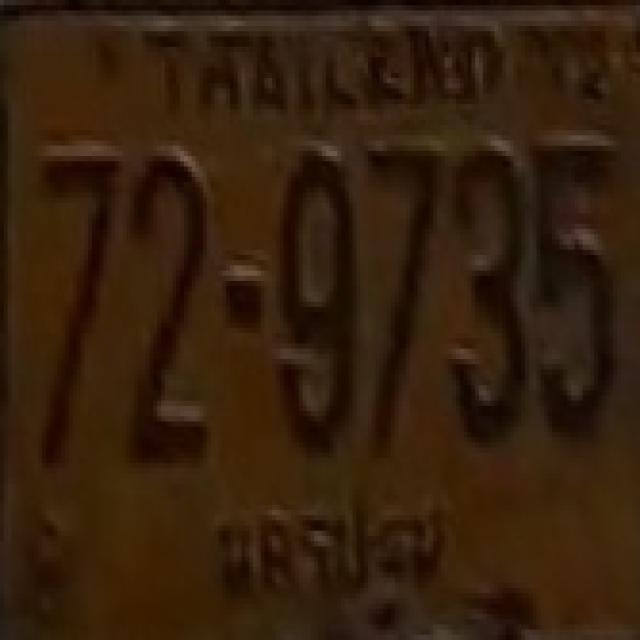2: (127, 154, 203, 408)
3: (447, 146, 523, 437)
5: (531, 141, 615, 437)
7: (366, 146, 439, 432), (38, 154, 115, 377), (38, 154, 115, 346), (40, 153, 117, 320), (366, 146, 439, 322)
9: (276, 151, 353, 447)
NPT: (202, 482, 458, 610)
